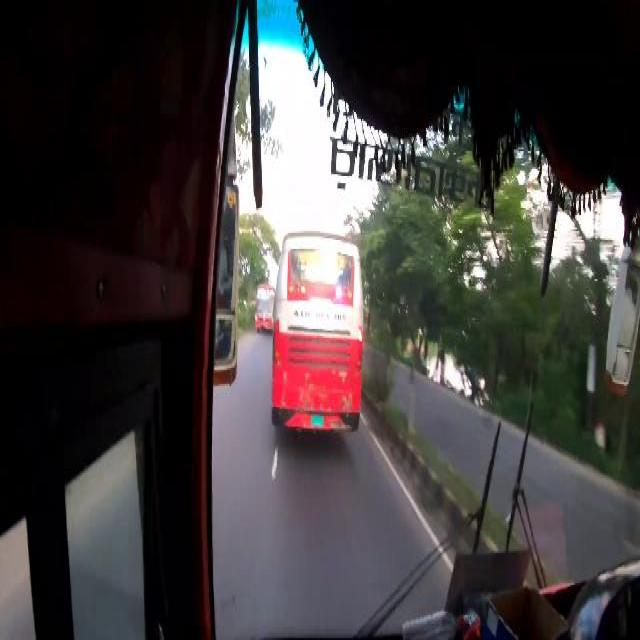vehicle: (274, 235, 364, 439), (254, 285, 275, 333)
